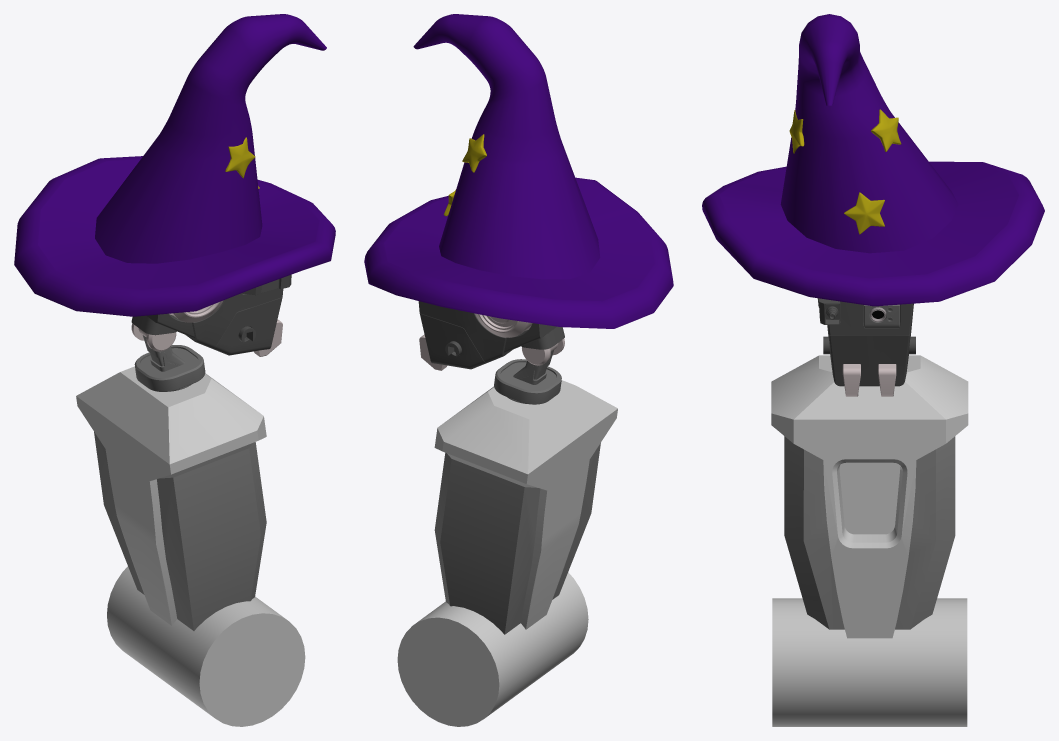
The model's file is Wizard.fbx.
The picture shows the model from 3 angles, left to right: view 1: azimuth 30°, elevation 25°; view 2: azimuth 150°, elevation 25°; view 3: azimuth 270°, elevation 25°; orthographic projection. The views are drawn at different scales.
Parts seen in each view (by area): view 1: Circle, Cube, Cylinder, Slice, Cube.002, Cube.011, Cube.001; view 2: Circle, Cube, Cylinder, Slice, Cube.002, Cube.011, Cube.001; view 3: Circle, Cube, Cylinder, Slice, Cube.002.
Part boxes in pixels (x1,y1,x2,y2): Circle: [14, 14, 335, 316]; Cube: [76, 366, 266, 625]; Cylinder: [107, 566, 305, 726]; Slice: [94, 432, 266, 630]; Cube.002: [131, 274, 291, 356]; Cube.011: [134, 335, 205, 391]; Cube.001: [131, 323, 176, 351]; Circle: [364, 14, 673, 328]; Cube: [434, 380, 617, 629]; Cylinder: [397, 572, 588, 726]; Slice: [434, 443, 600, 634]; Cube.002: [418, 301, 564, 370]; Cube.011: [494, 350, 561, 404]; Cube.001: [522, 338, 564, 365]; Circle: [702, 14, 1044, 306]; Cube: [771, 355, 968, 638]; Cylinder: [772, 598, 967, 726]; Slice: [784, 436, 955, 629]; Cube.002: [817, 298, 915, 396].
Size of the model in its own units: 782 by 1812 by 786.
